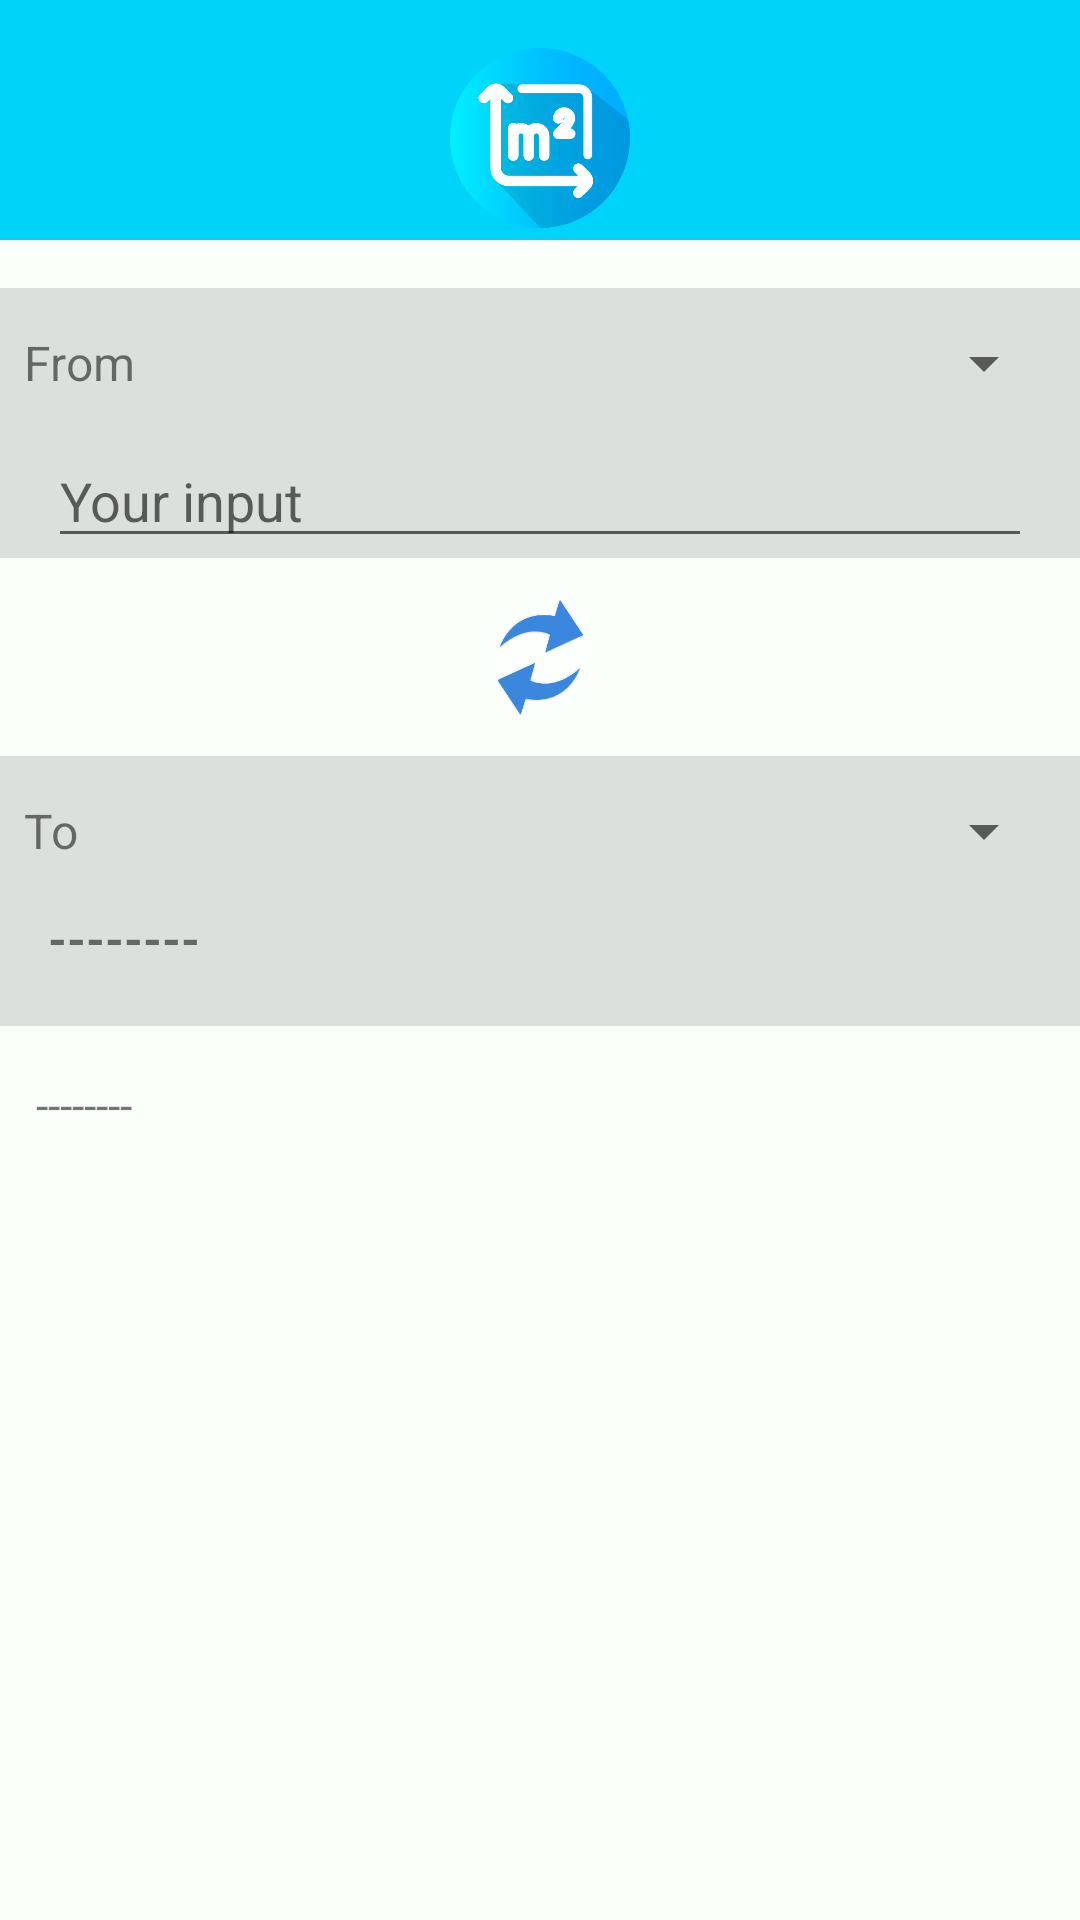

Icon bounding boxes for this 1080 x 1920 phone screenshot, format (x1, y1, x2, y2):
conv: (498, 600, 583, 715)
